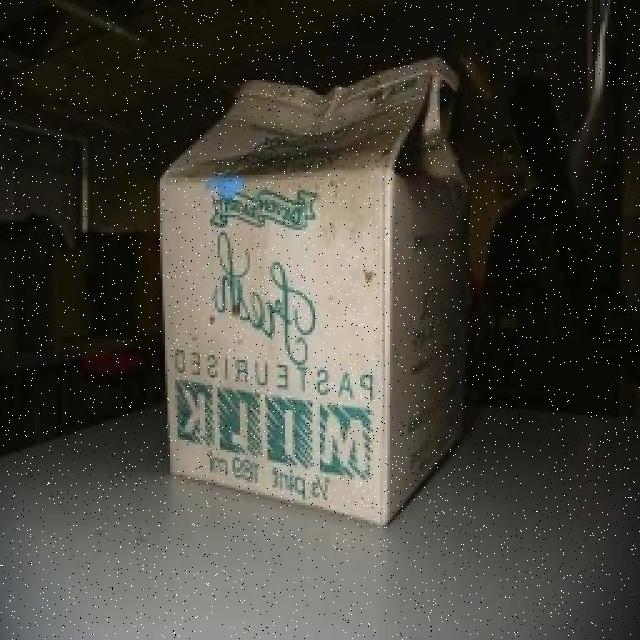box: (141, 64, 502, 514)
